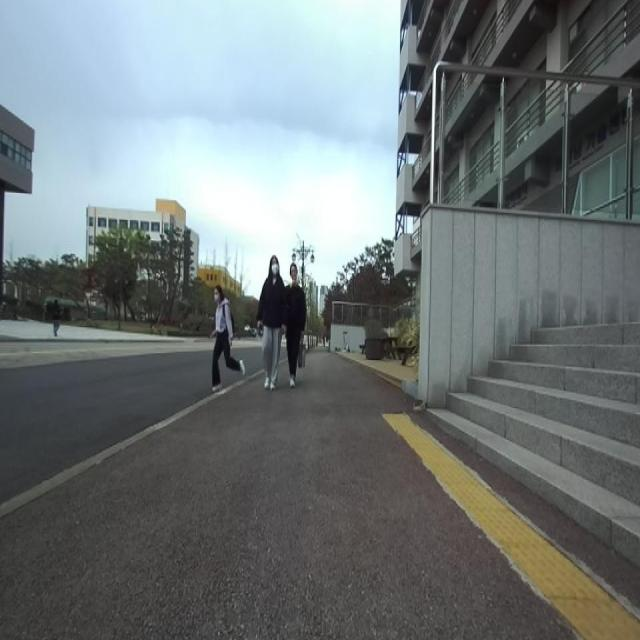sidewalk: (0, 352, 640, 639), (0, 370, 264, 518)
